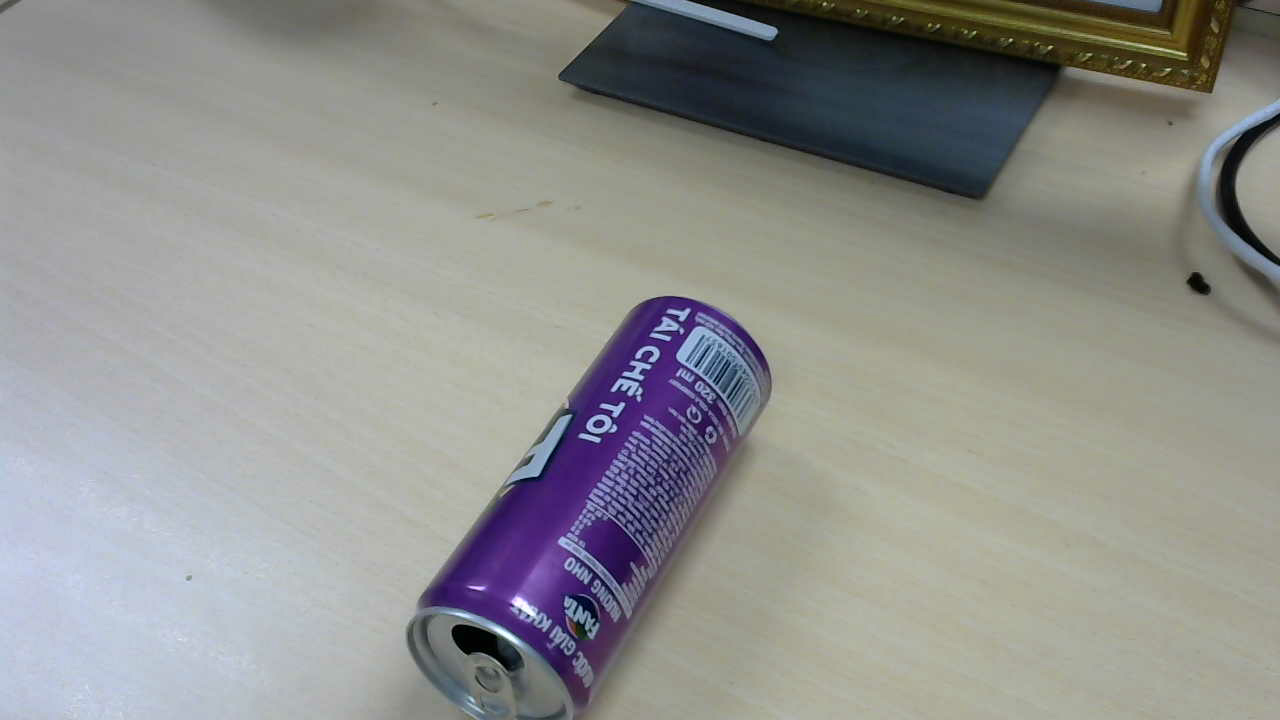Fanta: (411, 299, 779, 700)
